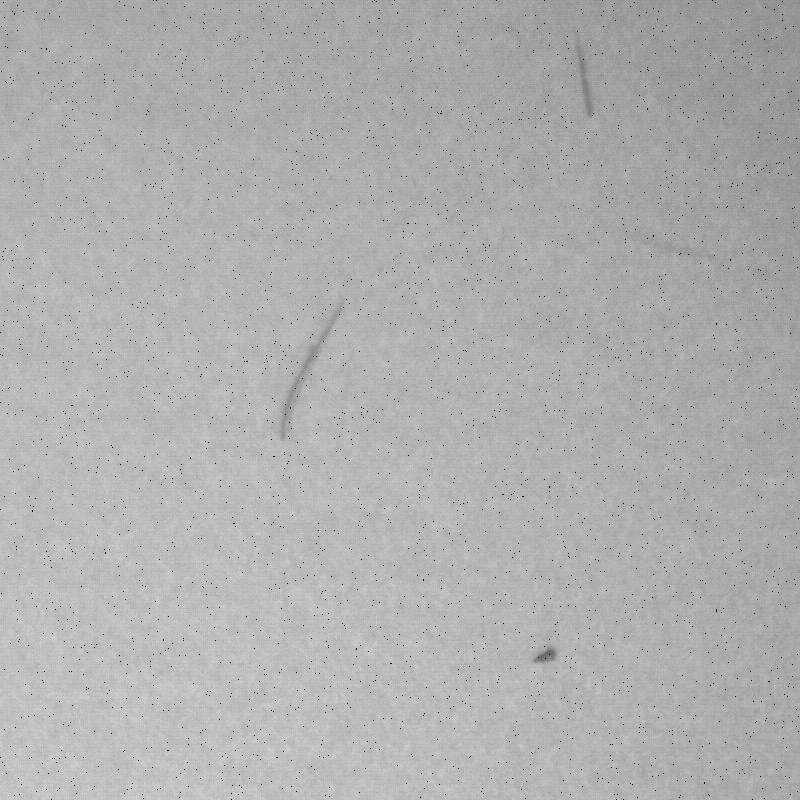defect: (275, 291, 353, 448), (565, 25, 600, 119), (532, 642, 561, 667)
